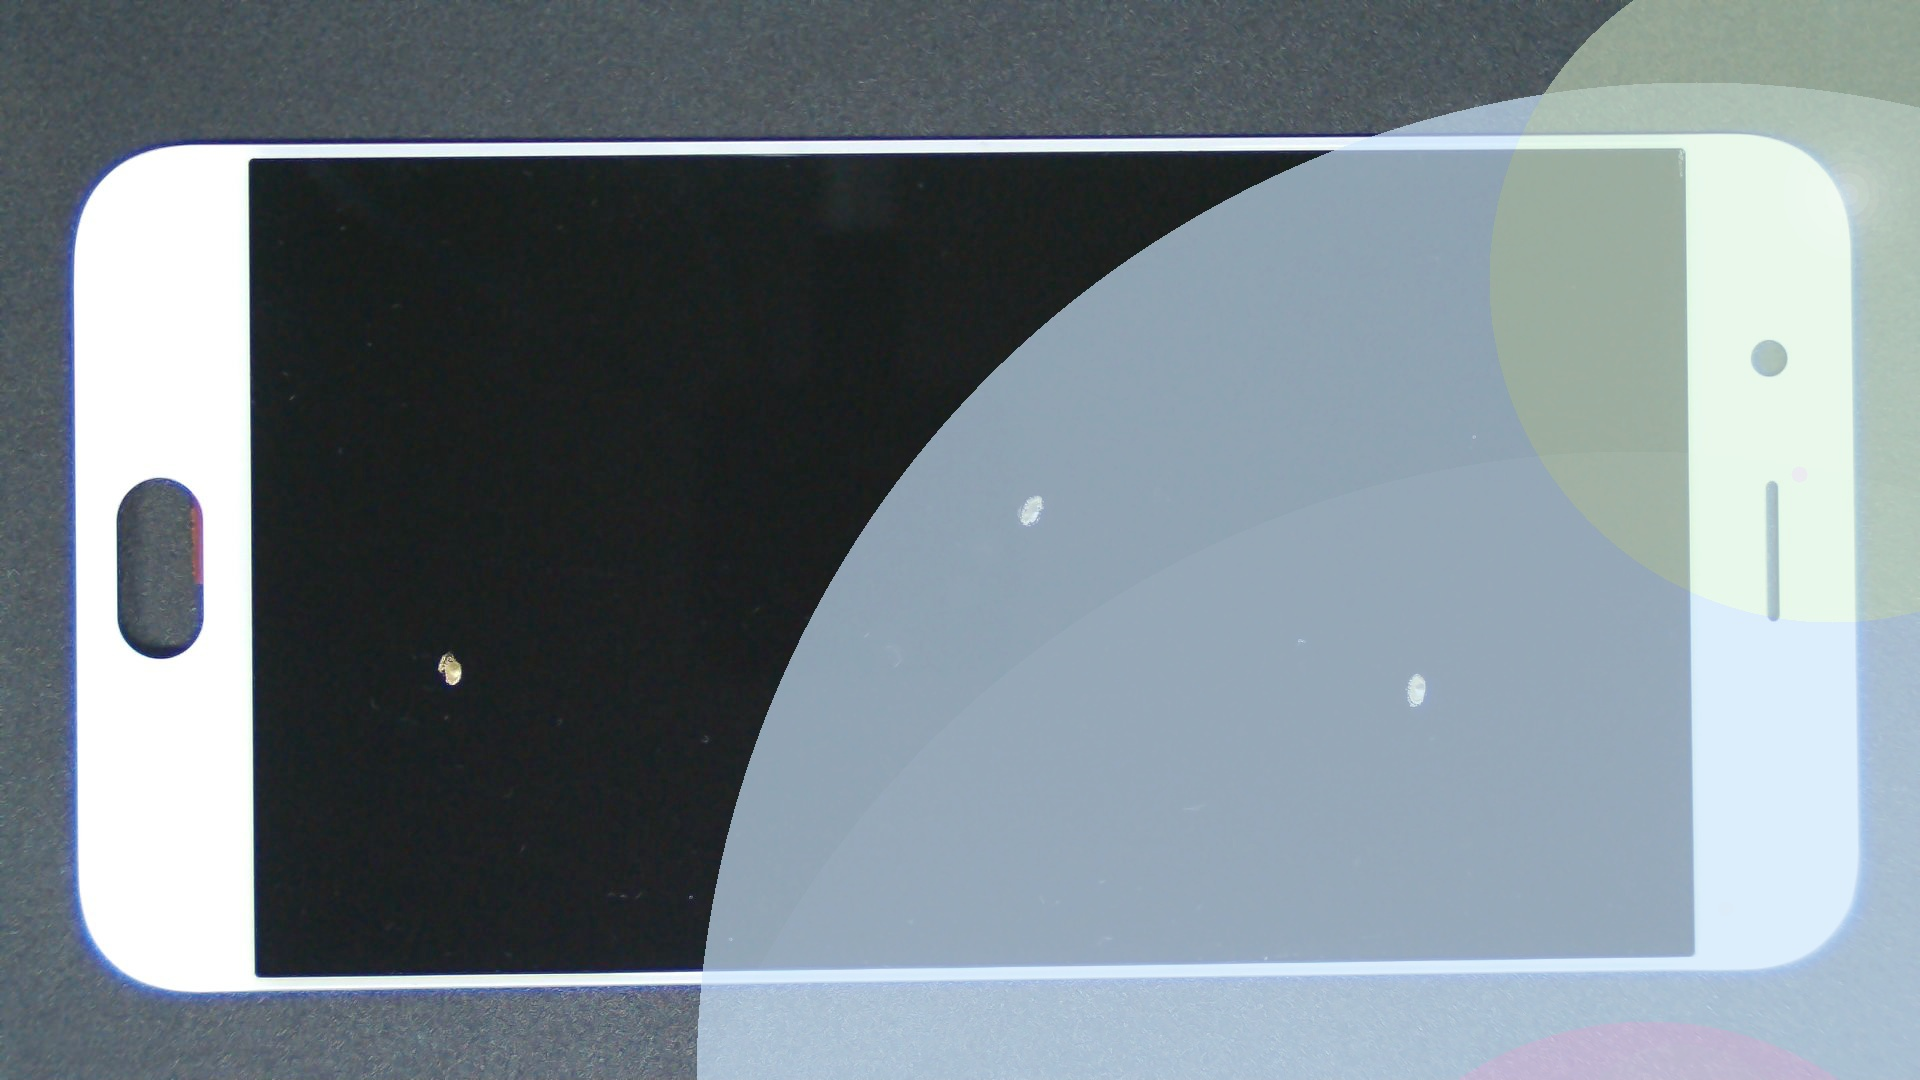oil: (707, 336, 1920, 1010), (518, 247, 1553, 741), (224, 324, 670, 976)
